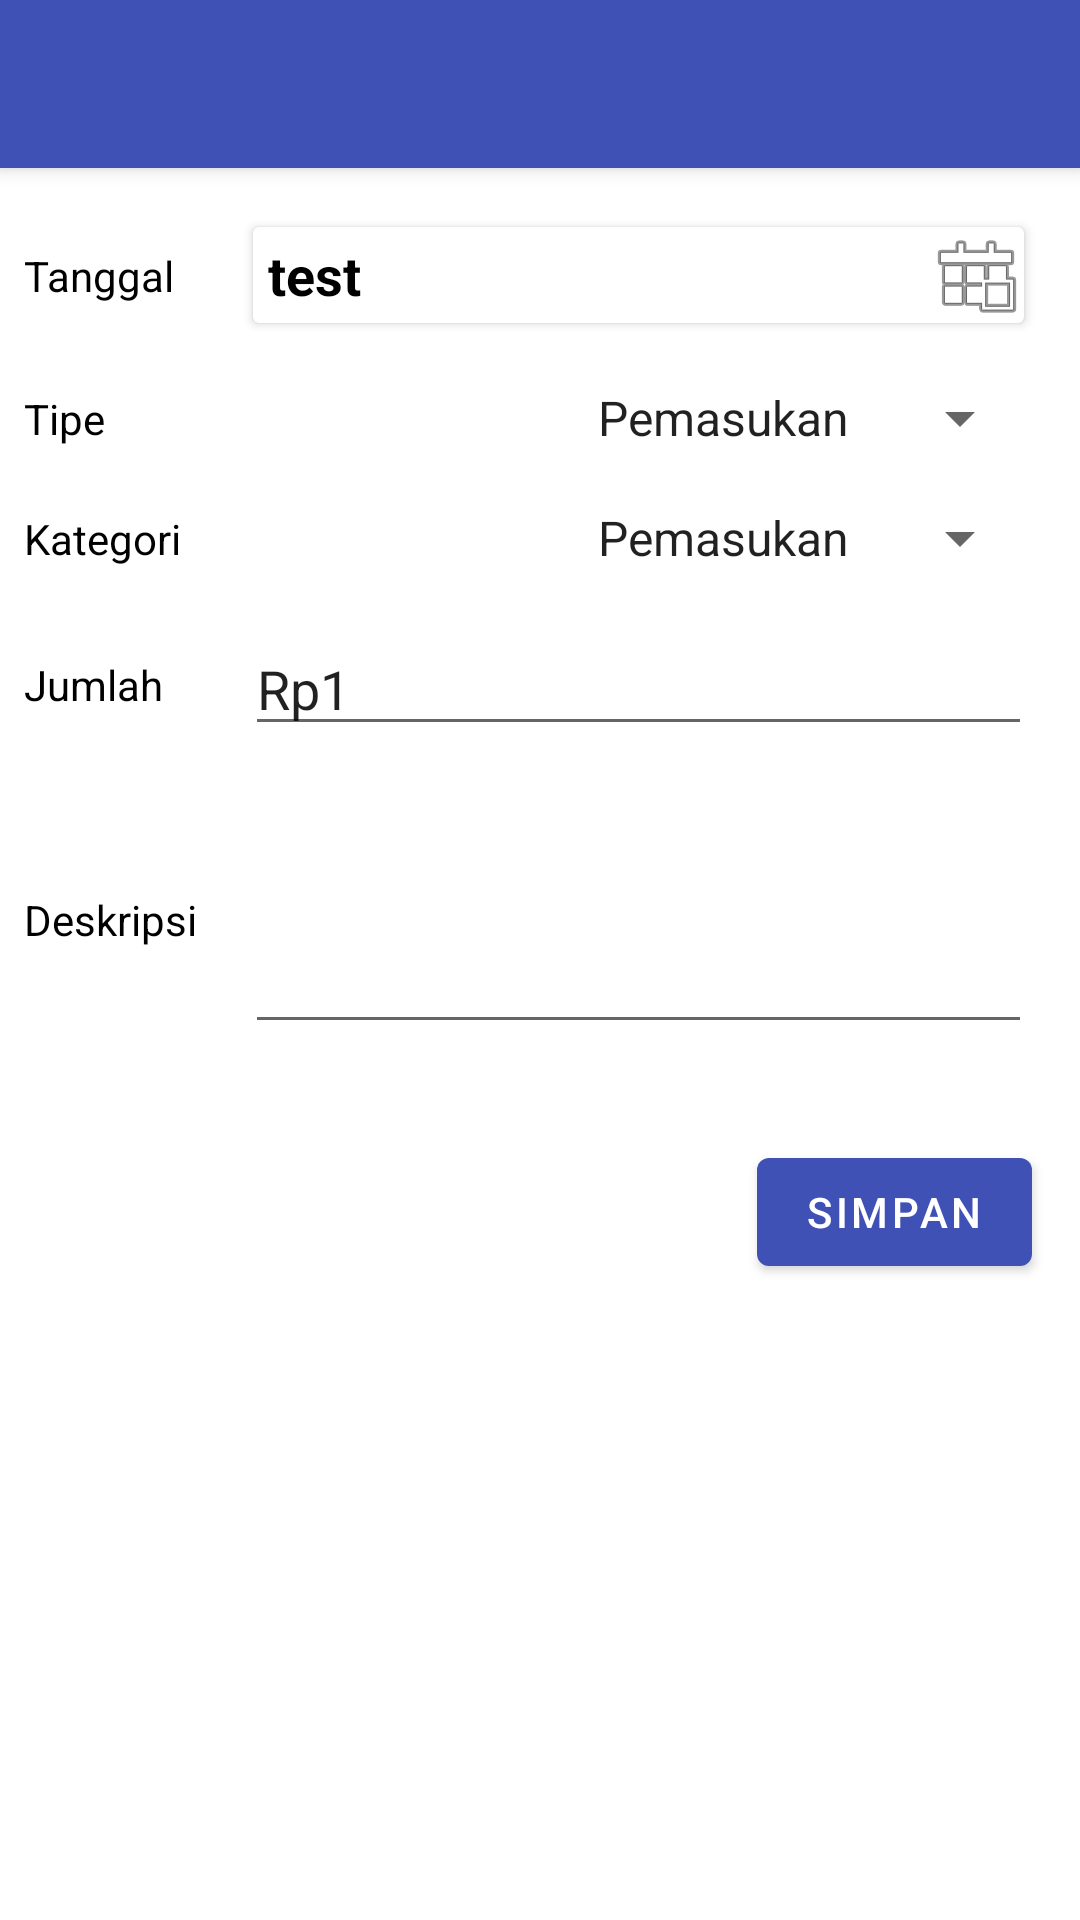

Icon bounding boxes for this 1080×1920 phone screenshot, format (x1, y1, x2, y2):
today: (938, 240, 1016, 313)
